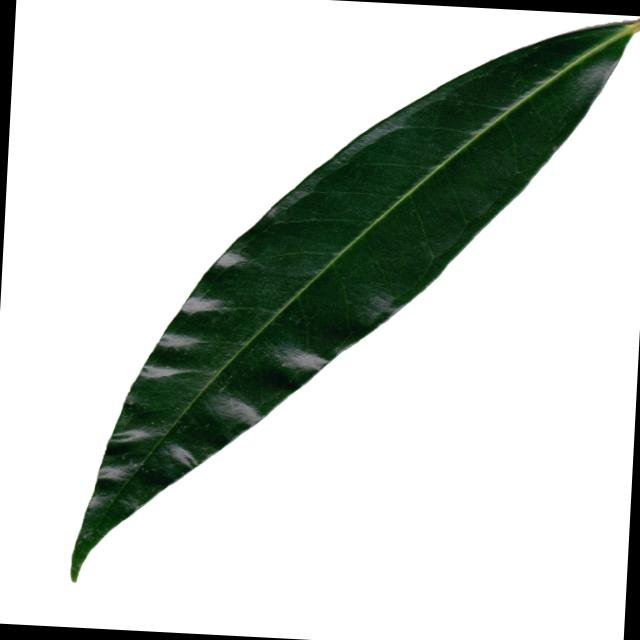Medicinal-Rose Apple: (70, 0, 640, 612)
